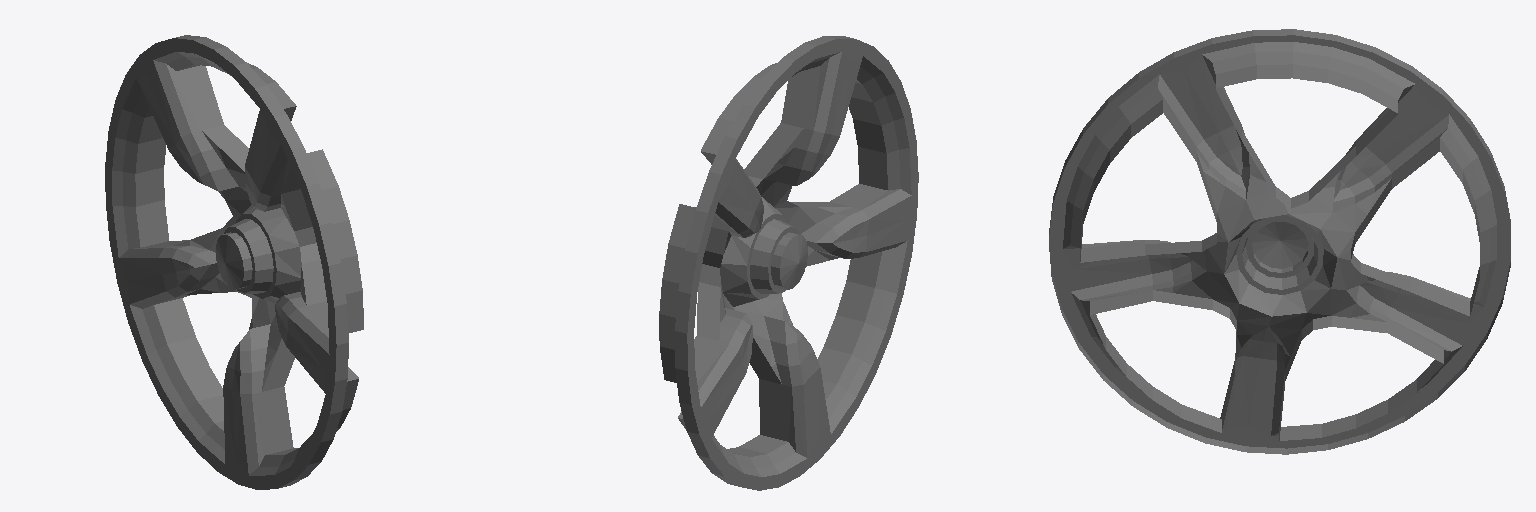
File: Rin2_Carro.obj
3 views of the same model, side by side, from view 1: azimuth 30°, elevation 25°; view 2: azimuth 150°, elevation 25°; view 3: azimuth 270°, elevation 25° (orthographic).
Visible parts, largest first — view 1: Rin2_Carro; view 2: Rin2_Carro; view 3: Rin2_Carro.
Part boxes in pixels (bbox=[...]): Rin2_Carro: bbox=[105, 35, 363, 489]; Rin2_Carro: bbox=[659, 36, 918, 490]; Rin2_Carro: bbox=[1049, 29, 1510, 454].
Bounding box in the file's own units: 2.89 × 16.52 × 16.51.